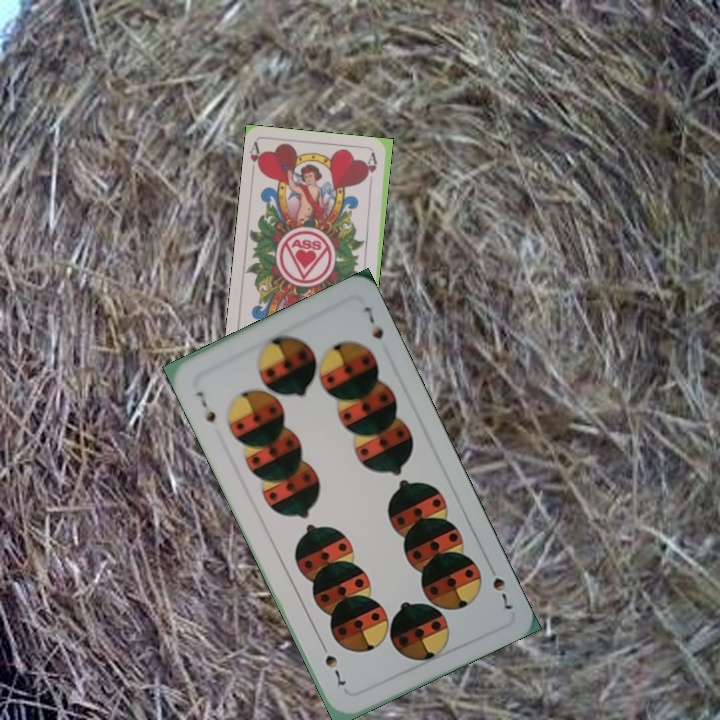HA: (246, 140, 266, 180)
S7: (484, 559, 515, 613), (192, 387, 219, 425)
